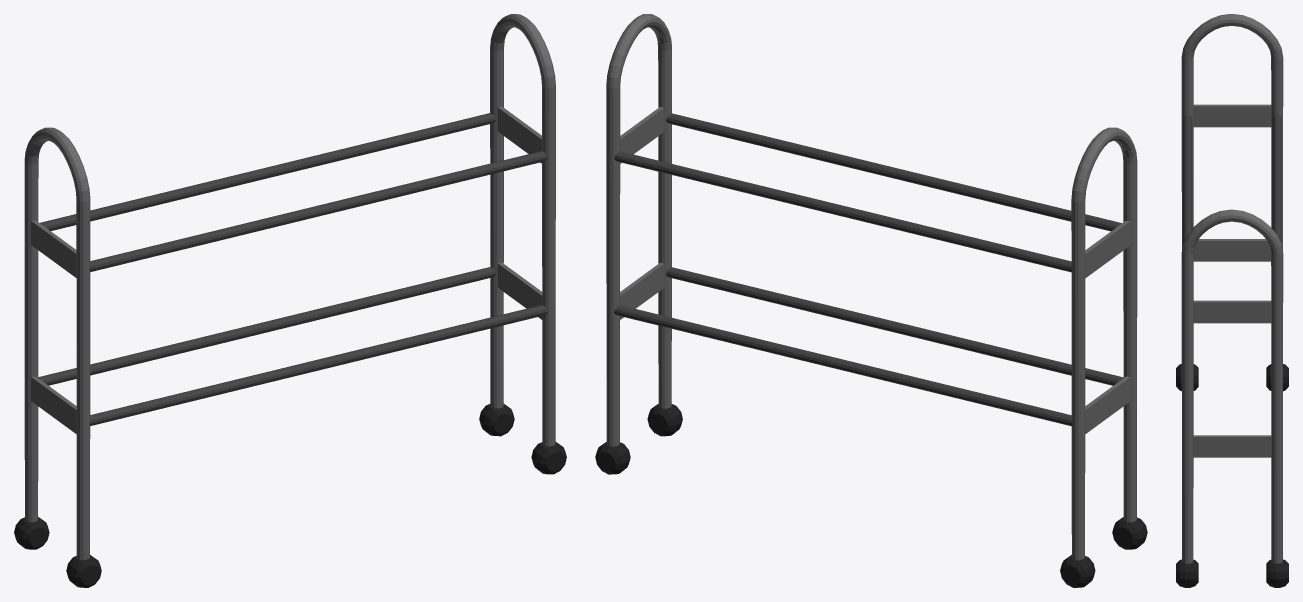
Rendered from CarroPelotas.fbx.
3 renders of one model, left to right at view 1: azimuth 30°, elevation 25°; view 2: azimuth 150°, elevation 25°; view 3: azimuth 270°, elevation 25°, orthographic. The views are drawn at different scales.
Parts seen in each view (by area): view 1: CarroBalocensto; view 2: CarroBalocensto; view 3: CarroBalocensto.
Part boxes in pixels (x1=…): CarroBalocensto: x1=14, y1=14, x2=566, y2=587; CarroBalocensto: x1=595, y1=14, x2=1147, y2=587; CarroBalocensto: x1=1176, y1=14, x2=1288, y2=587.
Size of what is drawn, in the model's own units: 1.65 by 0.3768 by 1.39.
